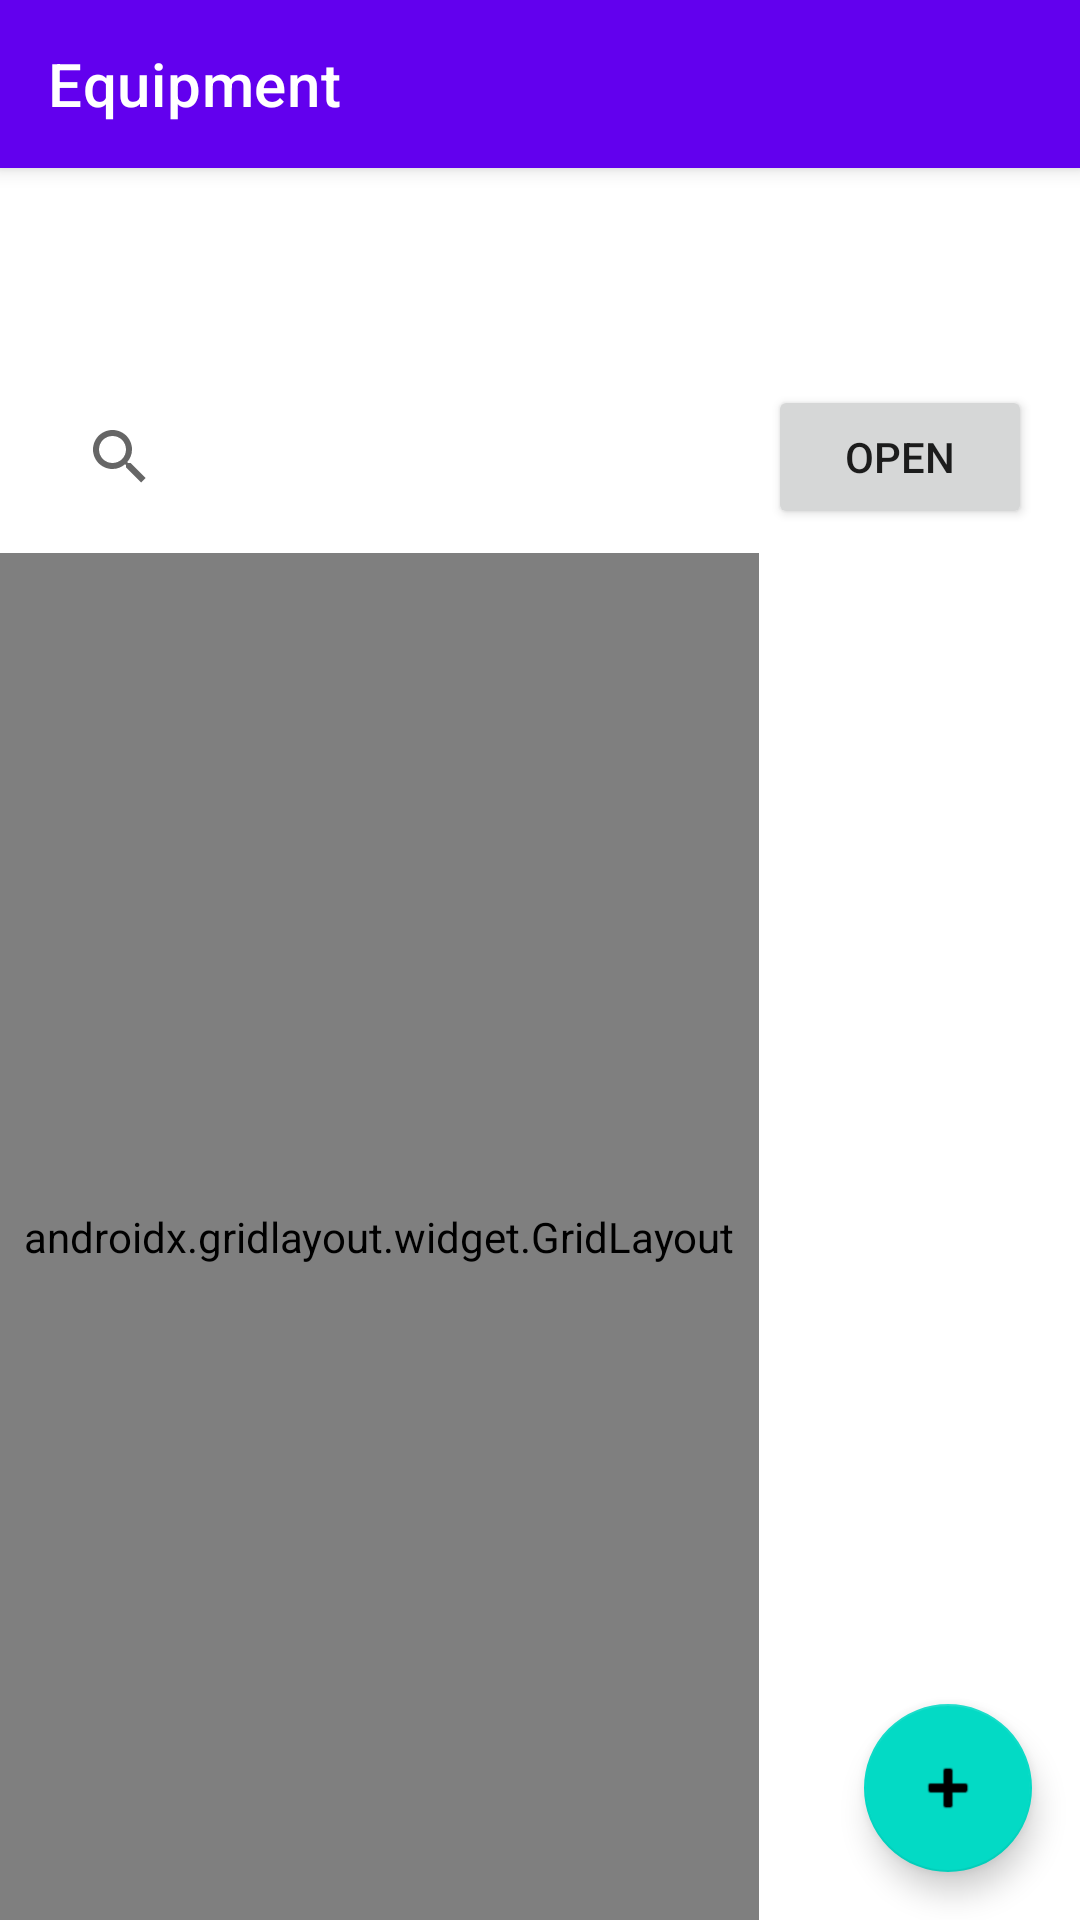

Named icons in this screenshot (1080px x 1920px) and their bounding boxes, (x1, y1, x2, y2):
Add Equipment: (864, 1704, 1032, 1872)
